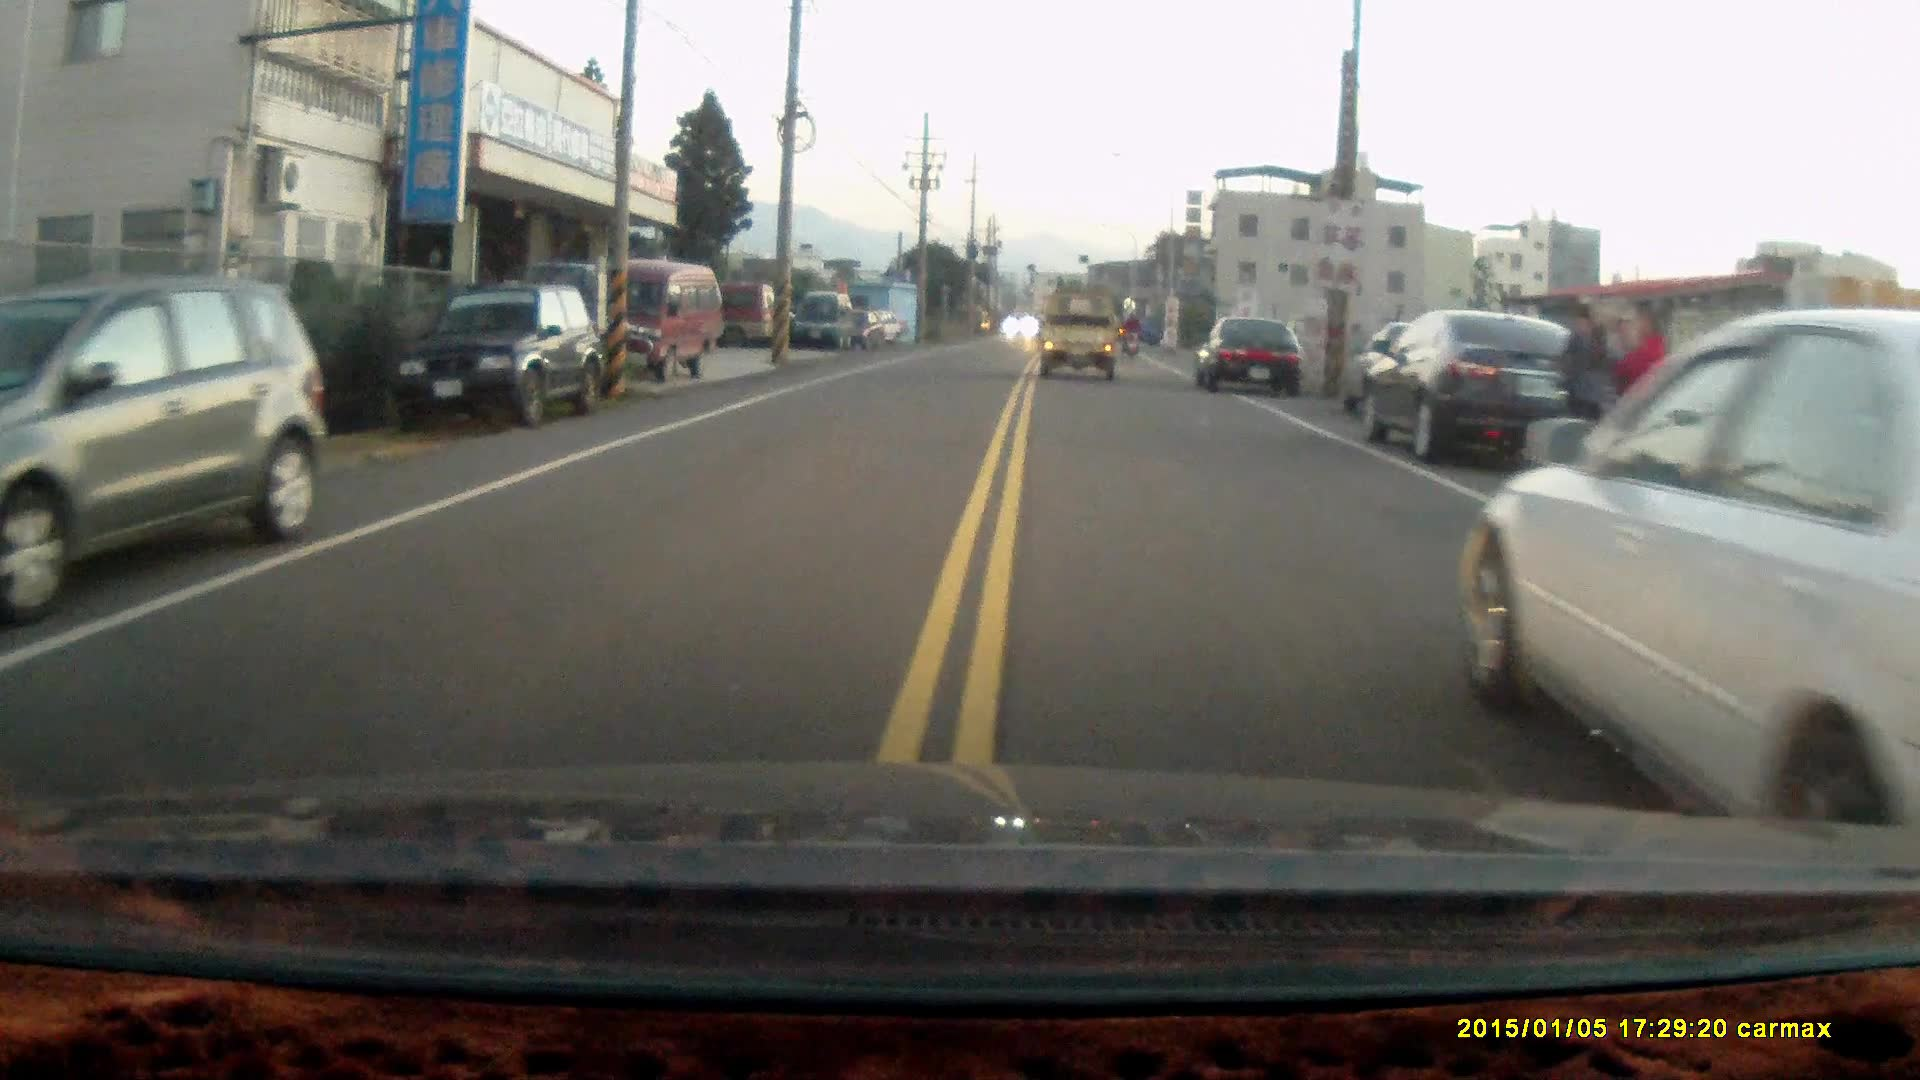pedestrian: (1545, 301, 1614, 489), (1606, 308, 1674, 492)
vehicle: (1470, 304, 1920, 839), (1, 274, 335, 602), (1358, 309, 1618, 470), (397, 279, 595, 429), (567, 256, 731, 383), (1198, 316, 1309, 396), (1035, 287, 1120, 374), (790, 291, 855, 348)
